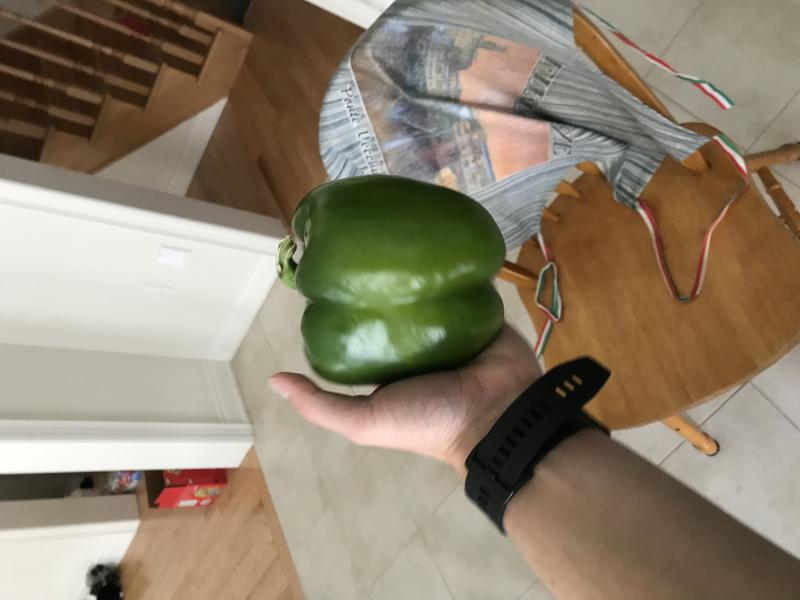green_pepper: (275, 165, 516, 399)
